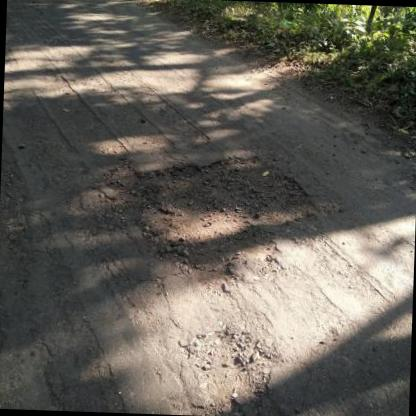pothole: (102, 152, 321, 294), (180, 327, 278, 416)
